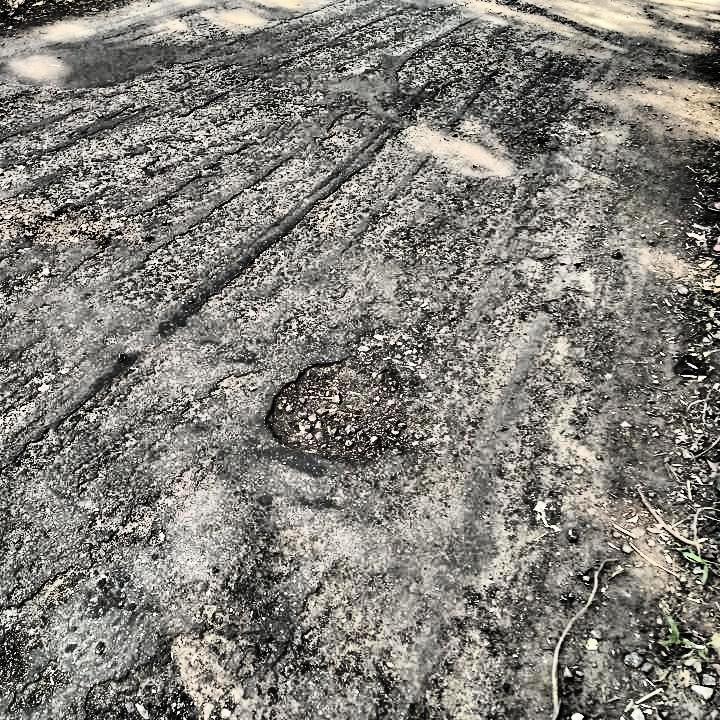pothole: (258, 353, 428, 463), (81, 635, 238, 719), (30, 200, 102, 245)
